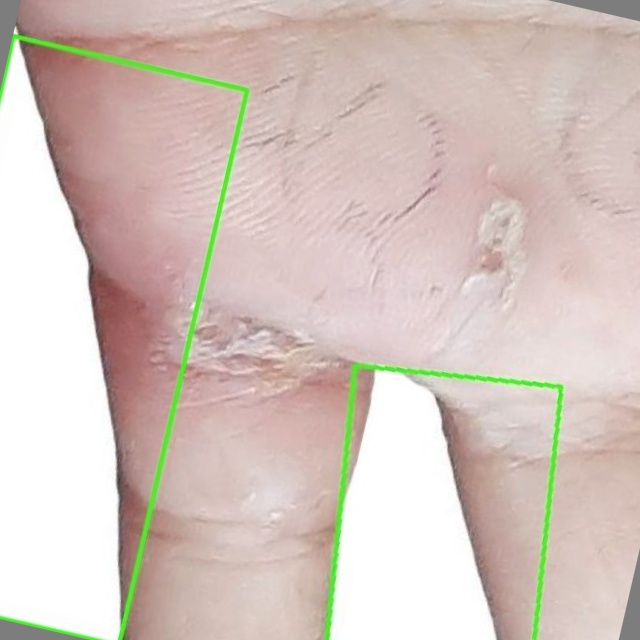Scabies: (0, 36, 247, 639), (325, 364, 561, 639)
